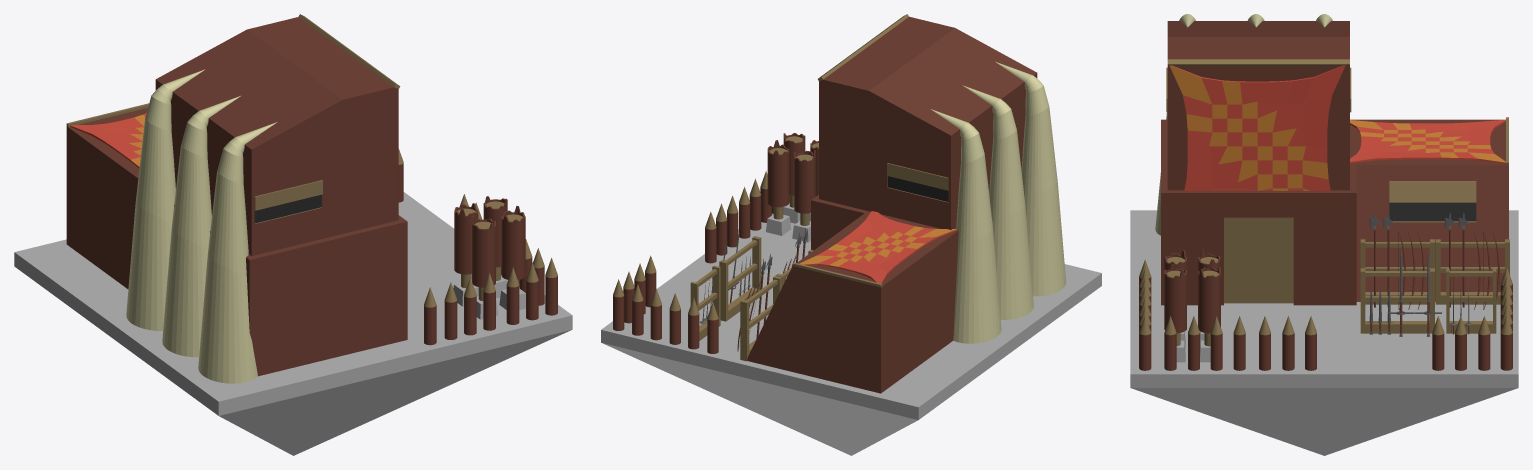
The model's file is Building Armory T1.fbx.
3 renders of one model, left to right at view 1: azimuth 30°, elevation 25°; view 2: azimuth 150°, elevation 25°; view 3: azimuth 270°, elevation 25°, orthographic. The views are drawn at different scales.
Parts seen in each view (by area): view 1: Armoury T1; view 2: Armoury T1; view 3: Armoury T1.
Boxes of the visible parts, box(x1,y1,x2,y2) form: Armoury T1: box(14, 14, 572, 455); Armoury T1: box(601, 14, 1101, 455); Armoury T1: box(1130, 14, 1518, 455).
Size of the model in its own units: 1599 by 1845 by 1599.
